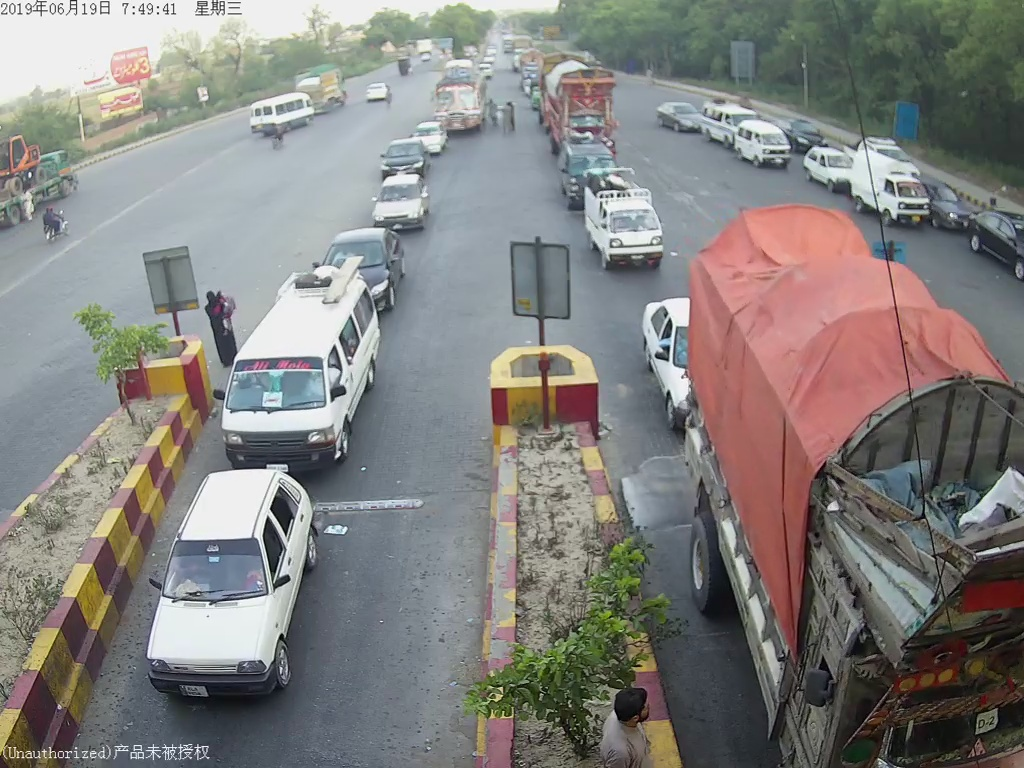Cat-1: (146, 468, 323, 704), (635, 283, 711, 437), (579, 172, 673, 272), (366, 177, 437, 232)
Cat-2: (215, 269, 380, 460)
Cat-3: (428, 51, 491, 134)
